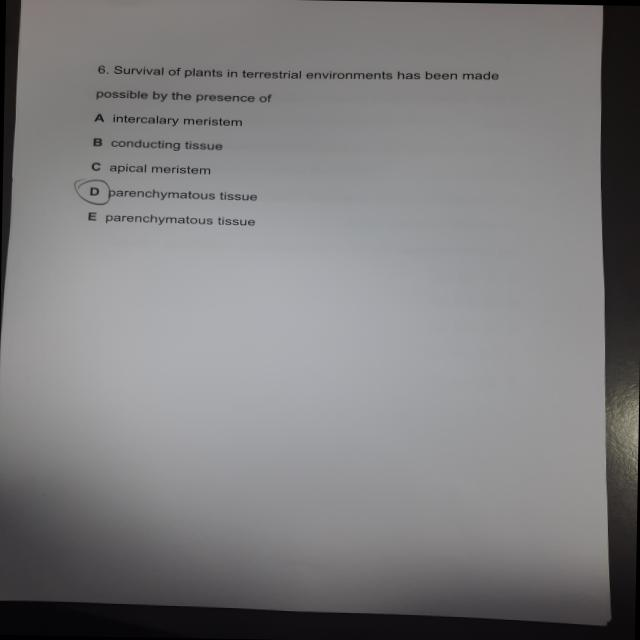D: (74, 177, 116, 207)
